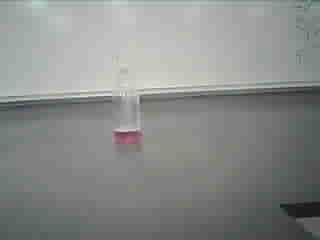hazard: (110, 55, 146, 149)
